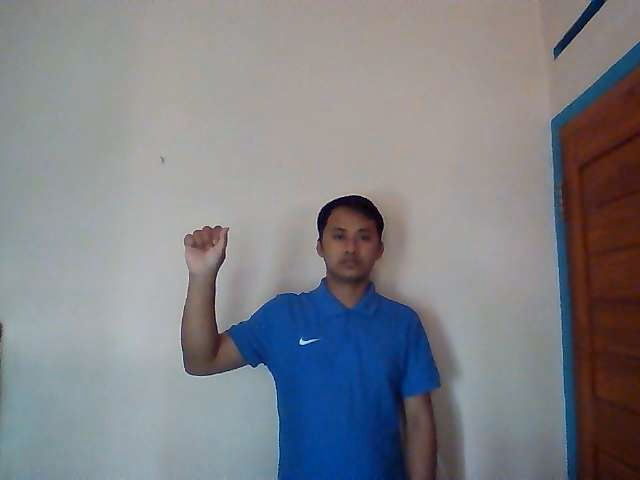A: (183, 225, 230, 276)
